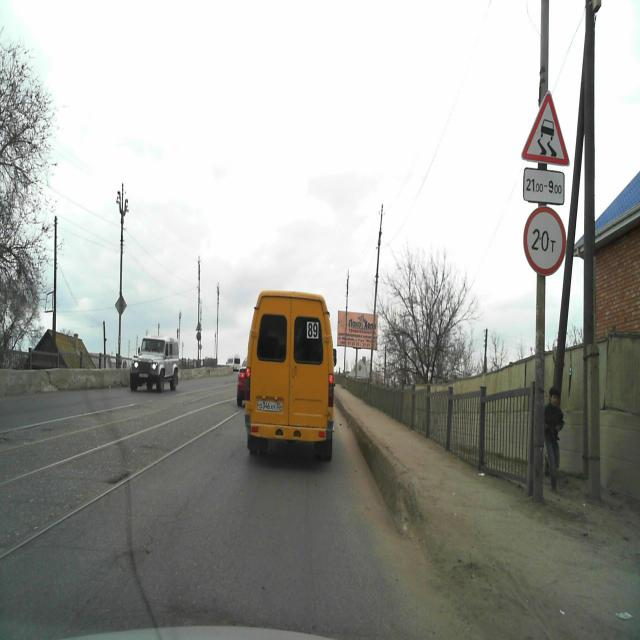road sign: (522, 88, 569, 167), (523, 168, 567, 206)
